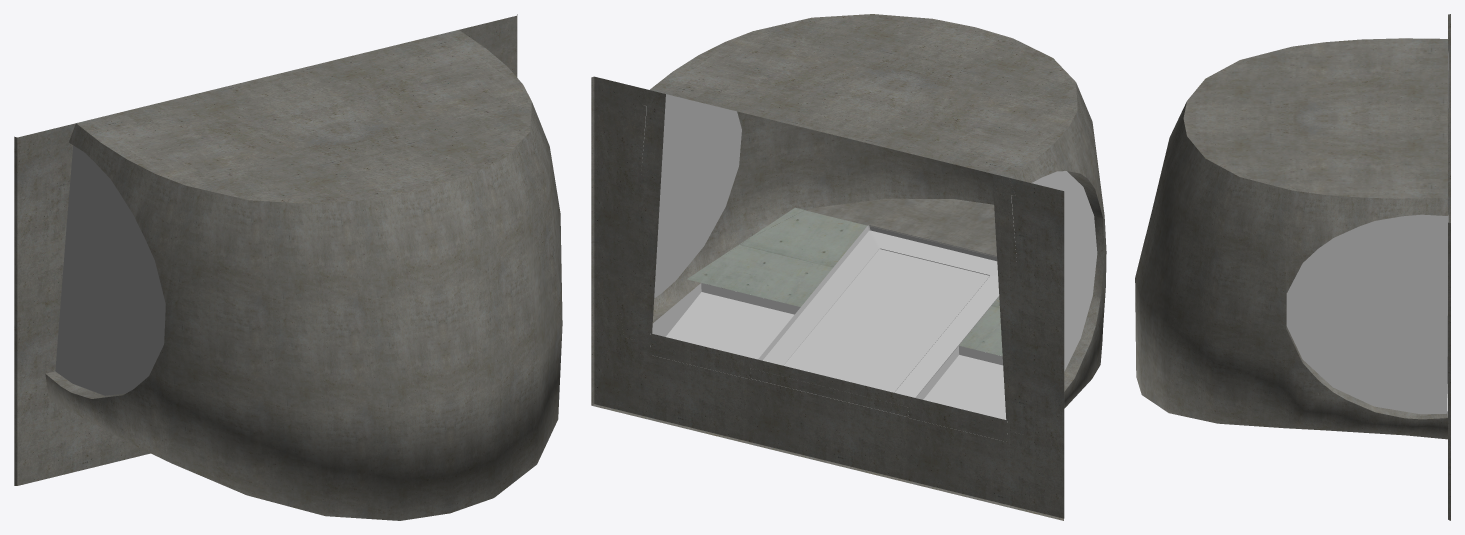
File: nt_fallout_shelter_LOD2.obj
3 renders of one model, left to right at view 1: azimuth 30°, elevation 25°; view 2: azimuth 150°, elevation 25°; view 3: azimuth 270°, elevation 25°, orthographic. The views are drawn at different scales.
Visible parts, largest first — view 1: concrete_base02_warm, mtl_nt_fallout_shelter_sign, mtl_nt_fallout_shelter_door; view 2: concrete_base02_warm, mtl_nt_fallout_shelter_sign, mtl_nt_fallout_shelter_door, nt_2020_concrete_formed; view 3: concrete_base02_warm, mtl_nt_fallout_shelter_sign, mtl_nt_fallout_shelter_door.
Boxes of the visible parts, bbox=[...] form: concrete_base02_warm: bbox=[14, 14, 562, 520]; mtl_nt_fallout_shelter_sign: bbox=[72, 158, 165, 395]; mtl_nt_fallout_shelter_door: bbox=[55, 145, 90, 383]; concrete_base02_warm: bbox=[591, 14, 1106, 520]; mtl_nt_fallout_shelter_sign: bbox=[650, 94, 1097, 434]; mtl_nt_fallout_shelter_door: bbox=[642, 106, 1016, 416]; nt_2020_concrete_formed: bbox=[687, 207, 1002, 356]; concrete_base02_warm: bbox=[1135, 14, 1450, 520]; mtl_nt_fallout_shelter_sign: bbox=[1286, 214, 1447, 416]; mtl_nt_fallout_shelter_door: bbox=[1421, 53, 1448, 414].
Size of the model in its own units: 465 by 309 by 297.
